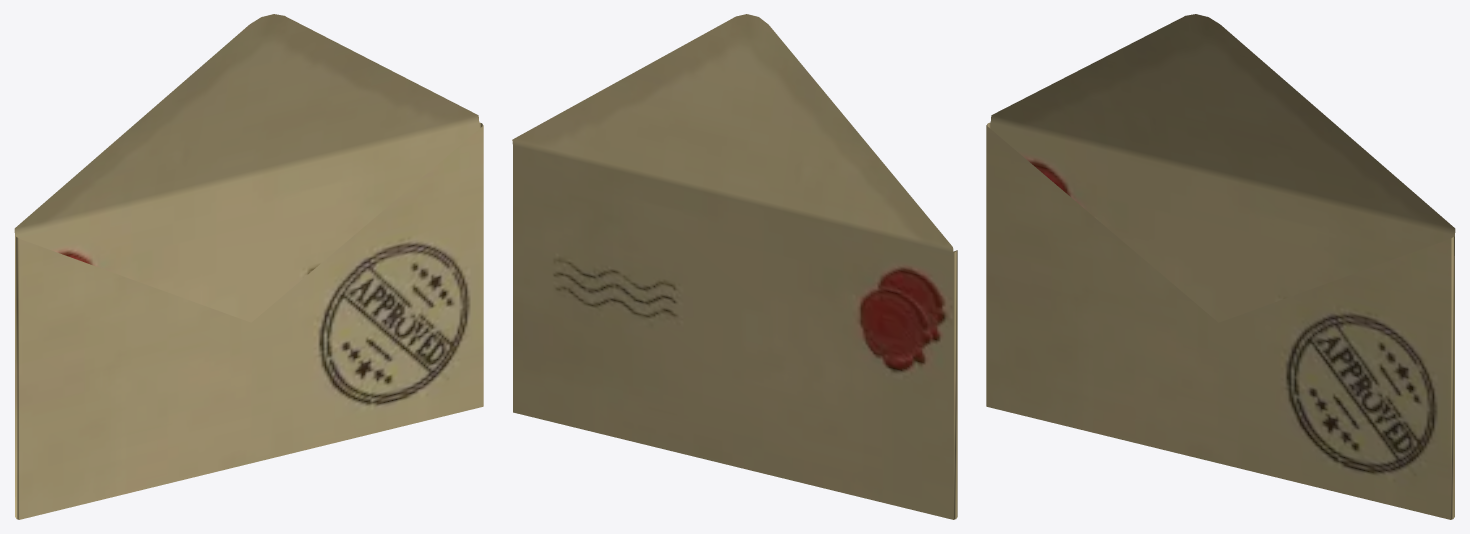
File: obj_envelope.glb
3 views of the same model, side by side, from view 1: azimuth 30°, elevation 25°; view 2: azimuth 150°, elevation 25°; view 3: azimuth 330°, elevation 25° (orthographic). The views are drawn at different scales.
Visible parts, largest first — view 1: defaultMaterial; view 2: defaultMaterial; view 3: defaultMaterial.
Part boxes in pixels (x1,y1,x2,y2): defaultMaterial: (14,14,483,519); defaultMaterial: (512,14,957,519); defaultMaterial: (986,14,1455,519).
Bounding box in the file's own units: 0.18 × 0.17 × 0.0142.
Materials: 1 (1 with a texture image).
